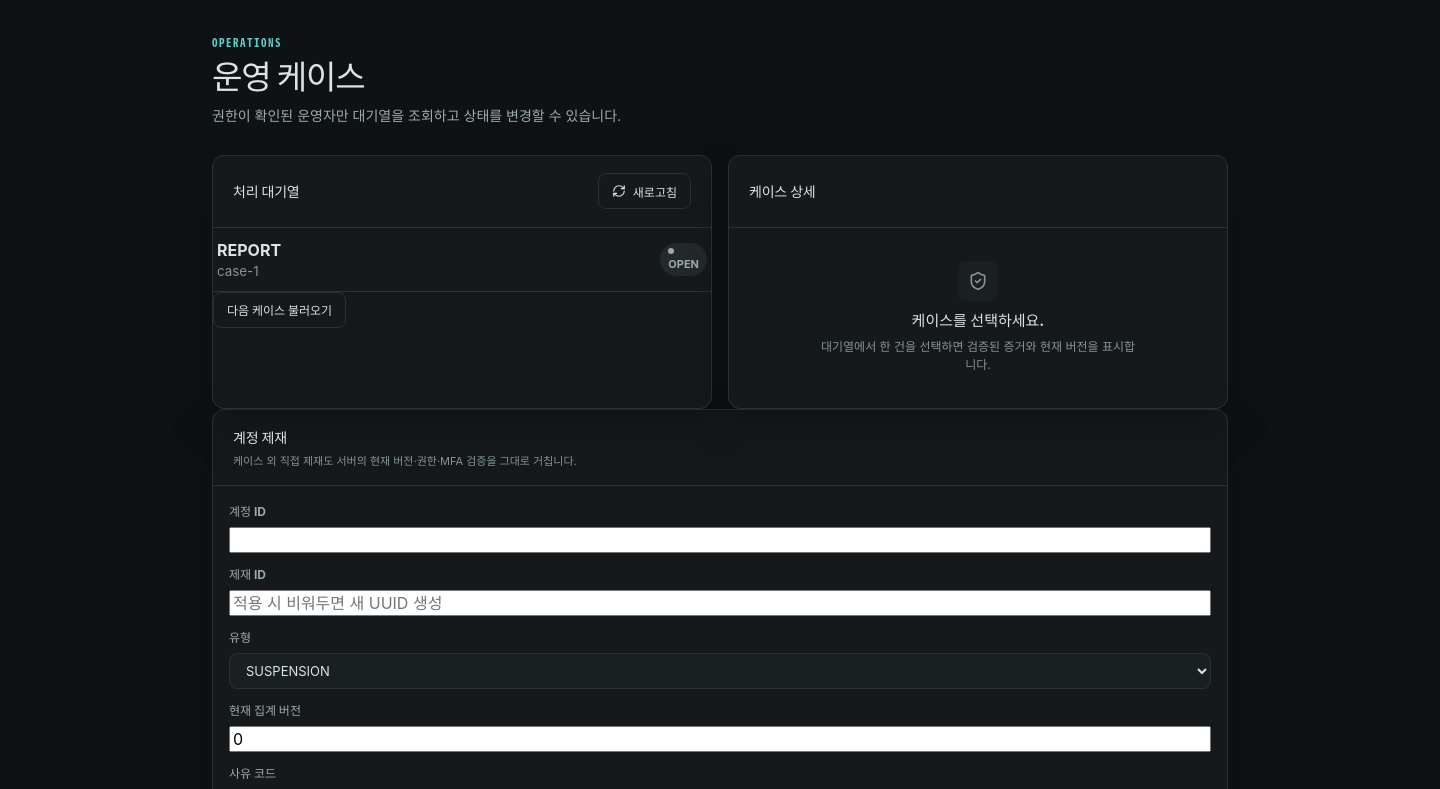
OperatorCaseWorkspace › loads the next operator queue page with the server cursor
The width and height of the screenshot is (1440, 789).
Expected: the button "REPORT case-1 OPEN" is shown, [213,228,711,292]
Click the button "다음 케이스 불러오기": (280, 310) [213,292,346,328]
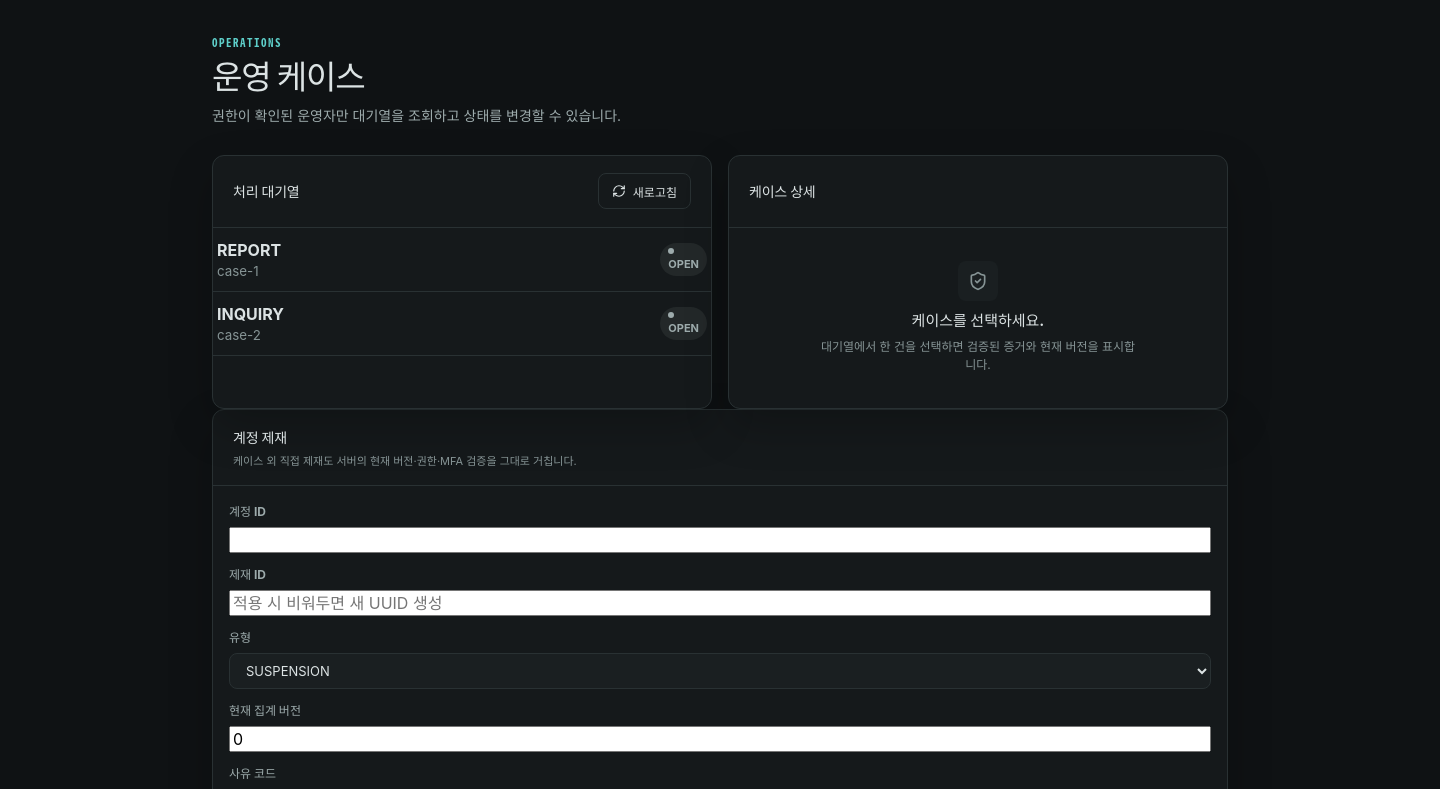
Result: the button "INQUIRY case-2 OPEN" is shown at [213,292,711,356]
